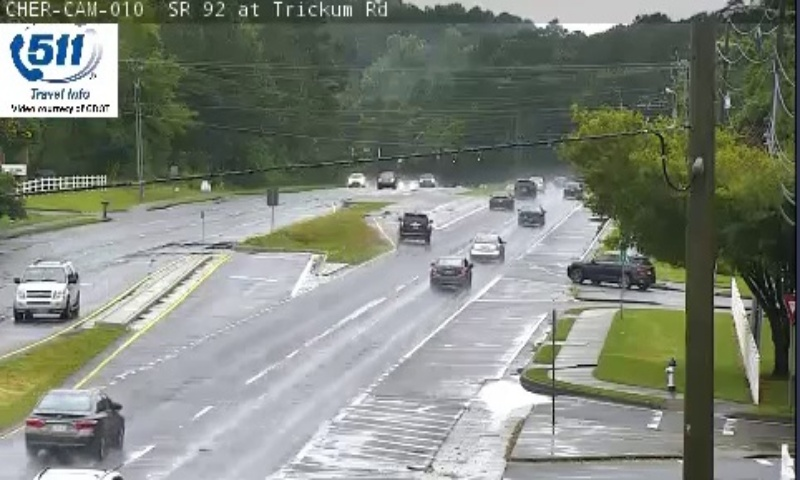car: (26, 389, 122, 451), (429, 256, 471, 286), (468, 232, 502, 261), (398, 212, 428, 240), (488, 189, 515, 211), (517, 205, 544, 225)
